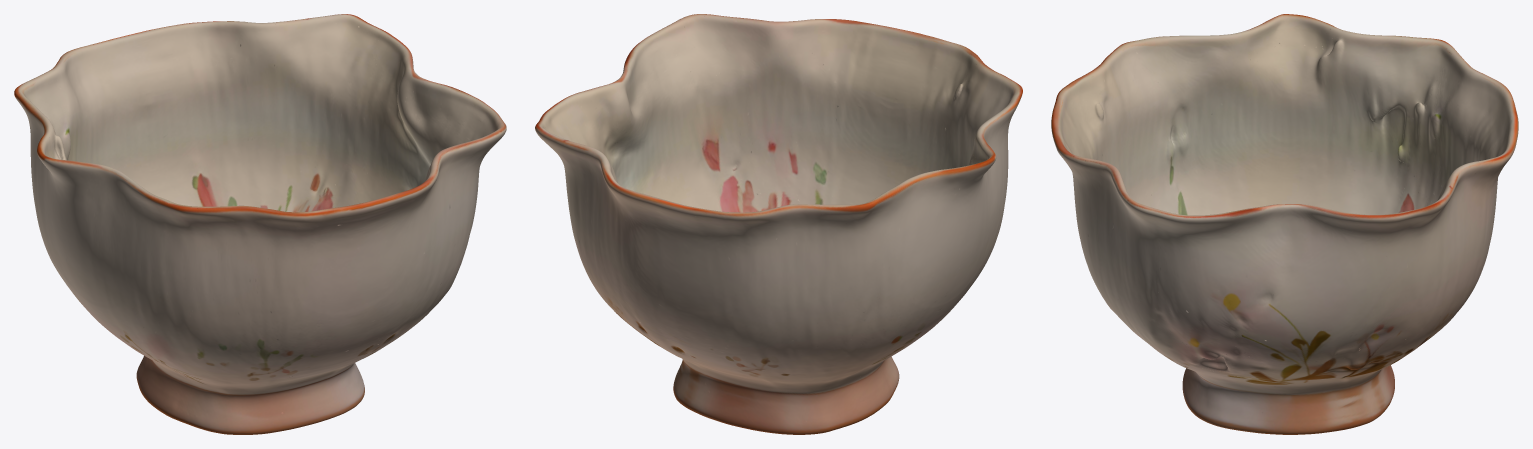
Rendered from tripo_convert_4071c08f-948d-429a-a0c8-fa3a92c7212e(1).fbx.
3 renders of one model, left to right at view 1: azimuth 30°, elevation 25°; view 2: azimuth 150°, elevation 25°; view 3: azimuth 270°, elevation 25°, orthographic.
Parts seen in each view (by area): view 1: tripo_node_4071c08f; view 2: tripo_node_4071c08f; view 3: tripo_node_4071c08f.
Boxes of the visible parts, left/top/right/bottom form: tripo_node_4071c08f: left=14, top=14, right=506, bottom=434; tripo_node_4071c08f: left=535, top=14, right=1022, bottom=434; tripo_node_4071c08f: left=1051, top=14, right=1518, bottom=434.
Bounding box in the file's own units: 92.52 × 62.52 × 95.14.
Materials: 1 (1 with a texture image).
